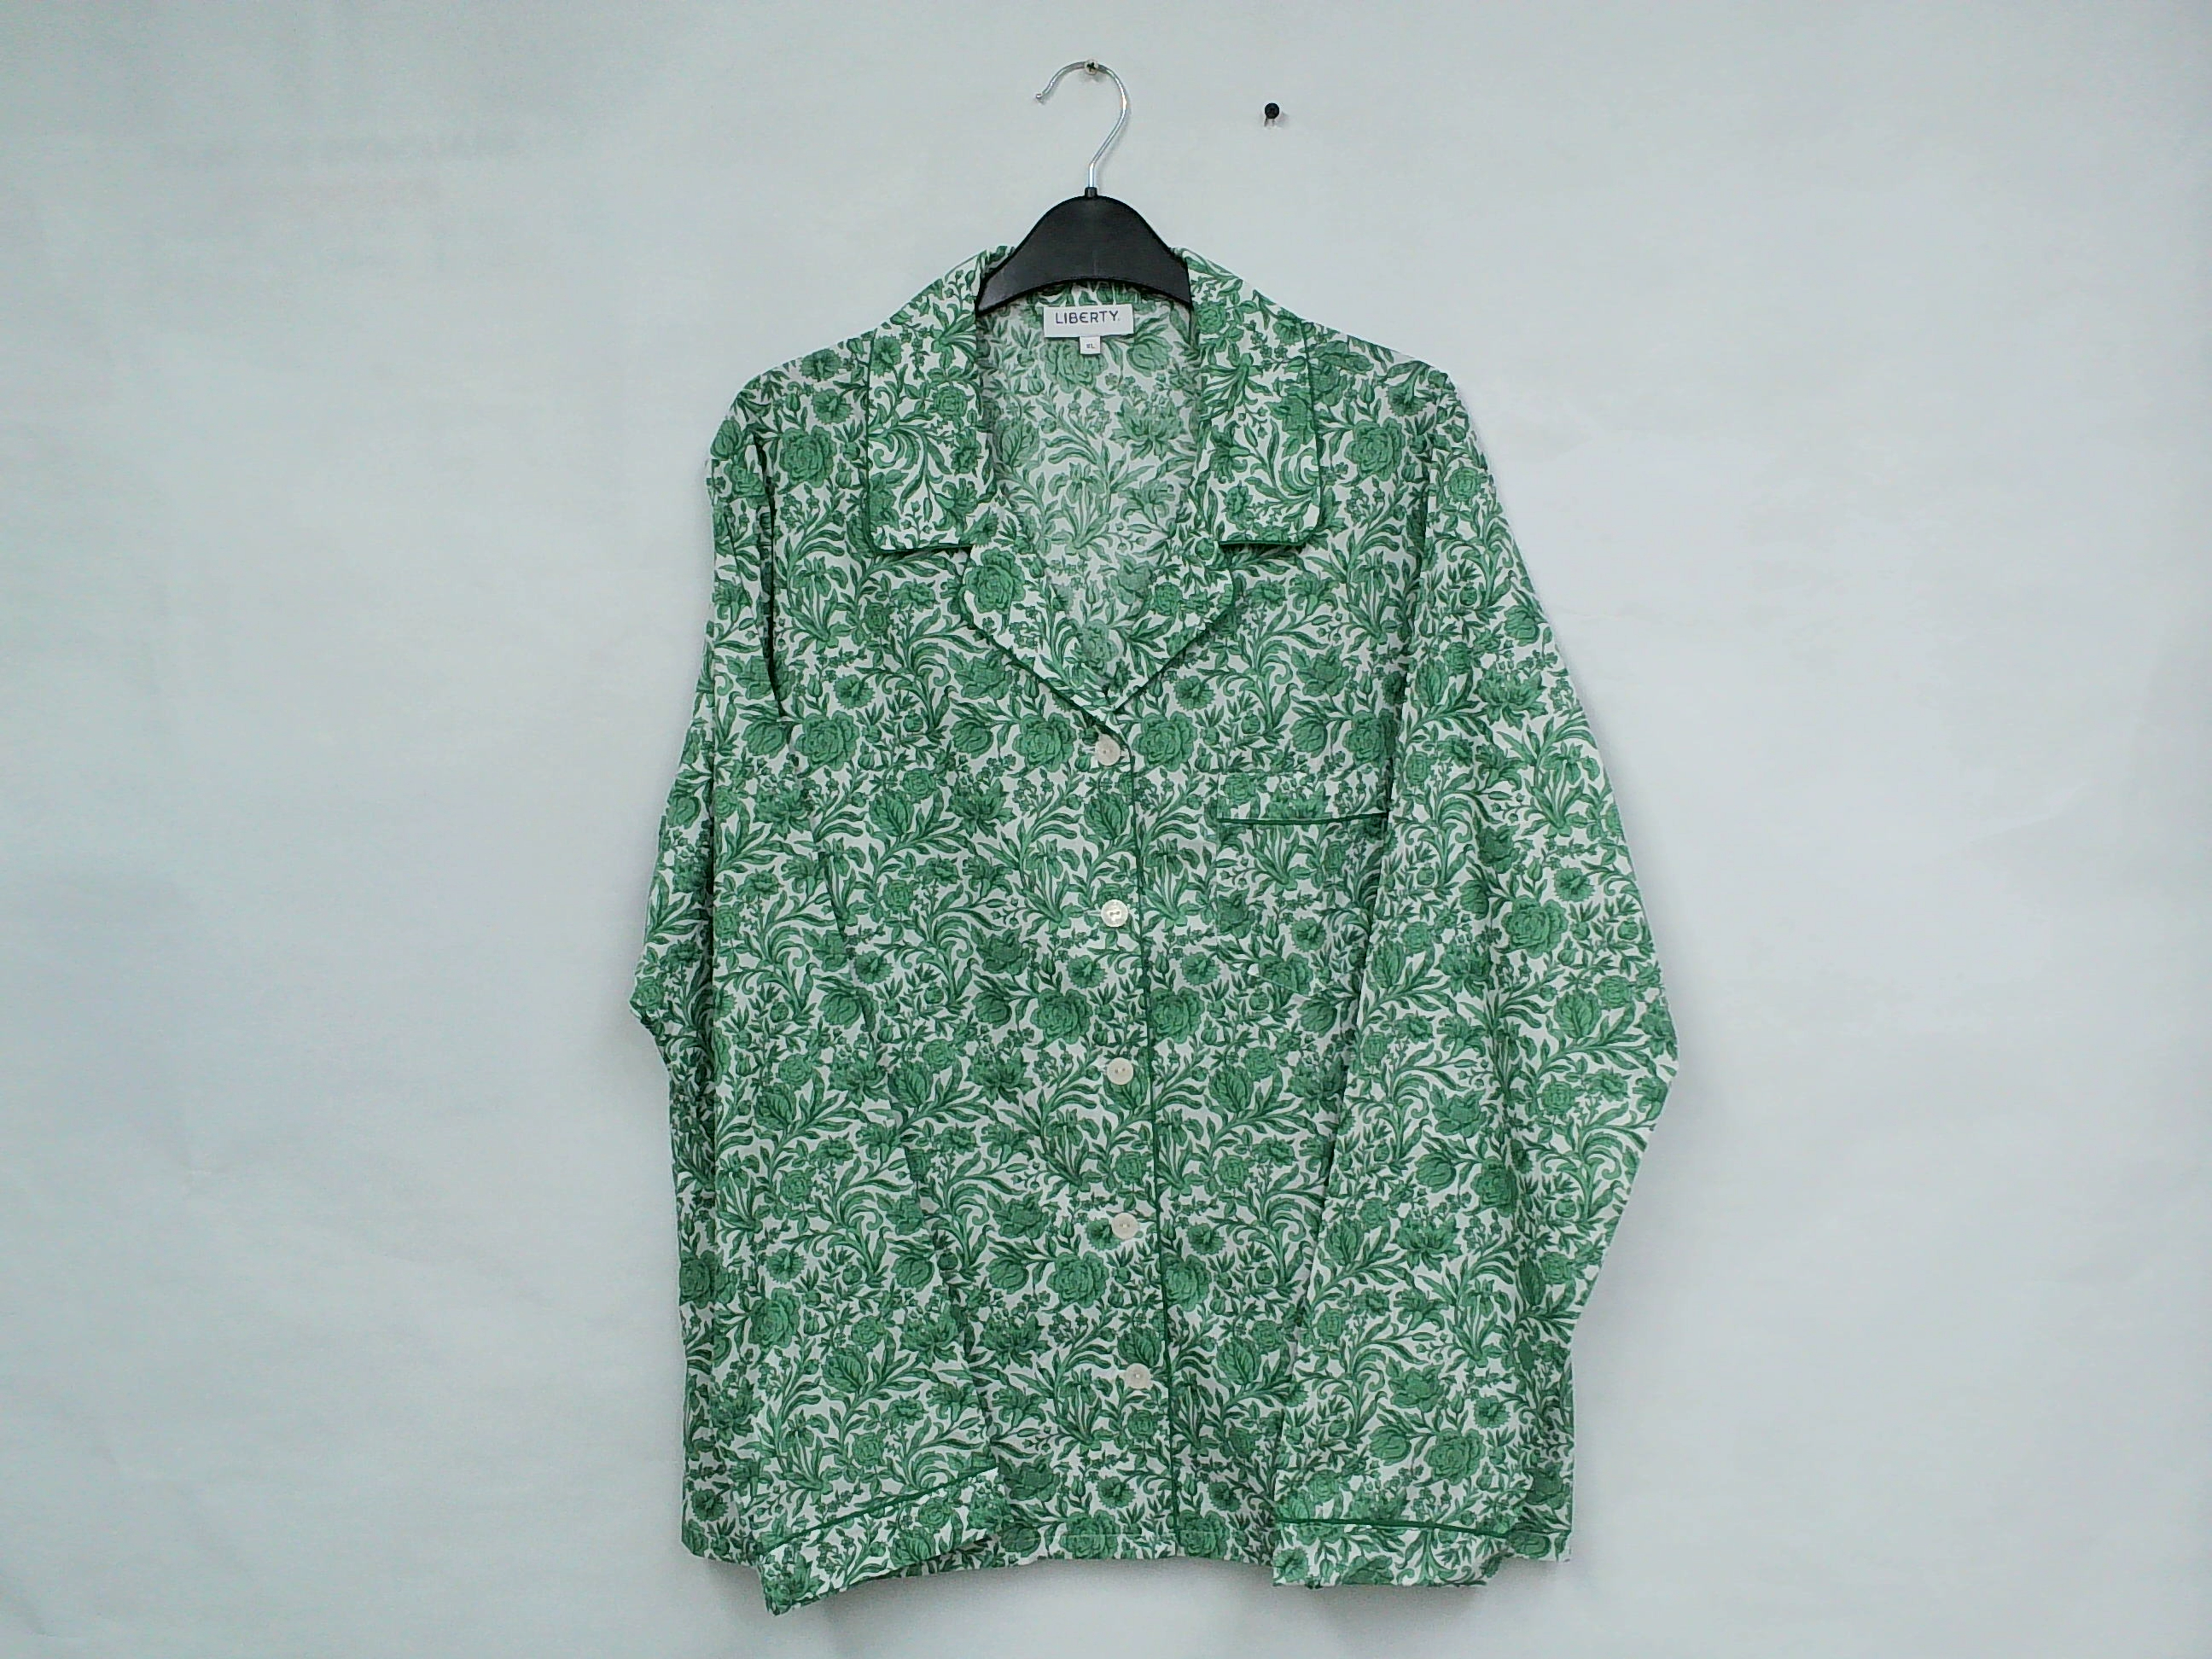seam: (1251, 1478, 1541, 1588), (728, 1490, 909, 1595)
